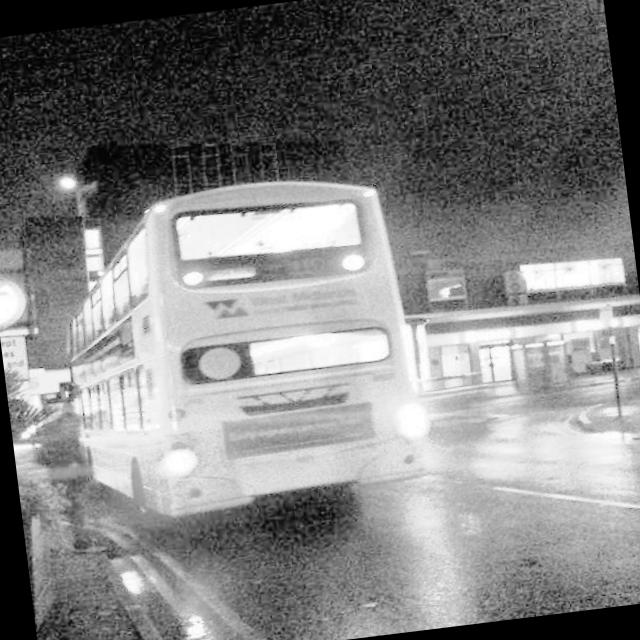Bus: (14, 176, 481, 562)
